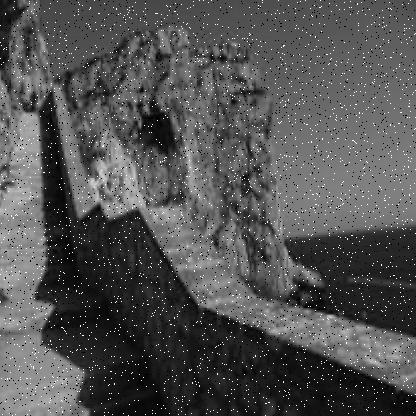stair_up: (0, 157, 148, 416)
